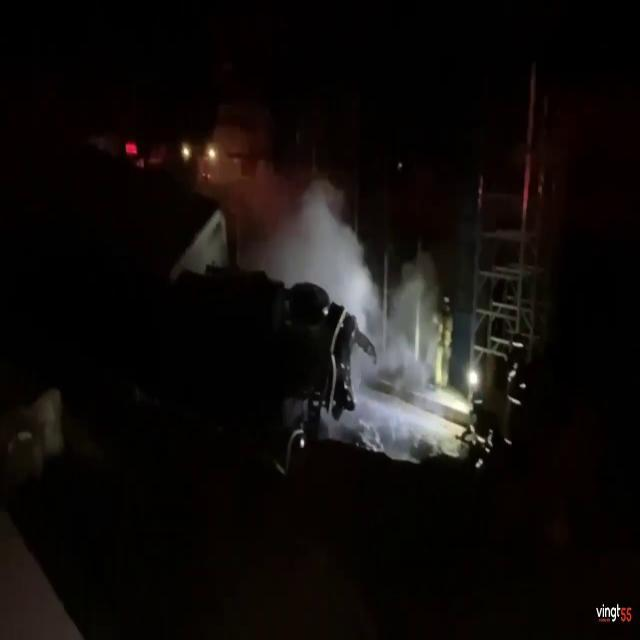Fire: (283, 172, 455, 454)
Smoke: (282, 173, 474, 453)
